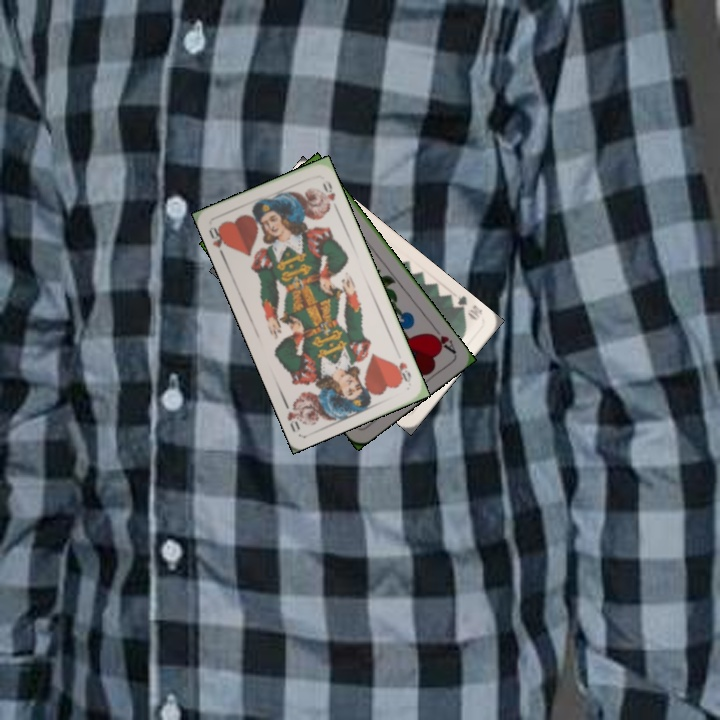G10: (451, 292, 485, 323)
HA: (425, 321, 458, 356)
HO: (205, 222, 230, 261), (390, 358, 414, 387)
